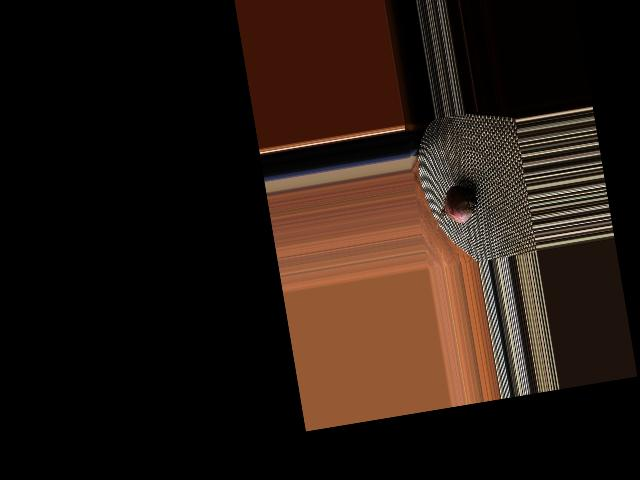beet: (429, 177, 482, 232)
